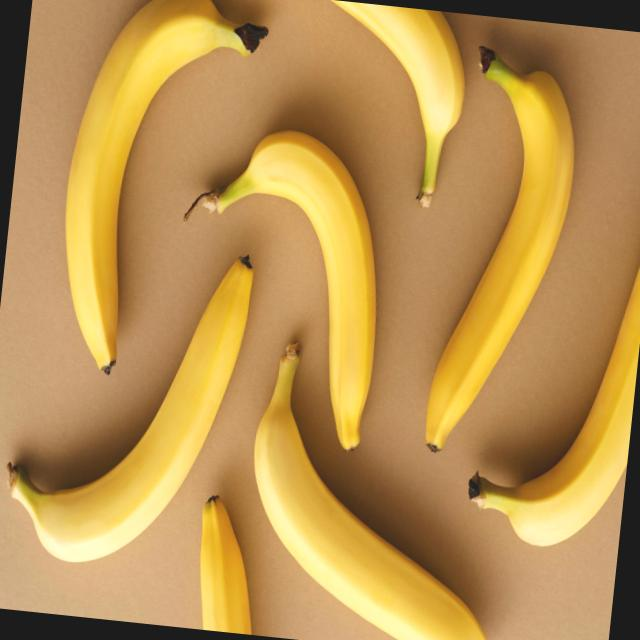chuoi: (7, 257, 253, 561), (65, 0, 266, 372), (254, 344, 486, 640), (425, 52, 573, 452), (193, 132, 375, 449), (465, 263, 640, 545), (337, 1, 464, 207), (200, 496, 250, 634)
